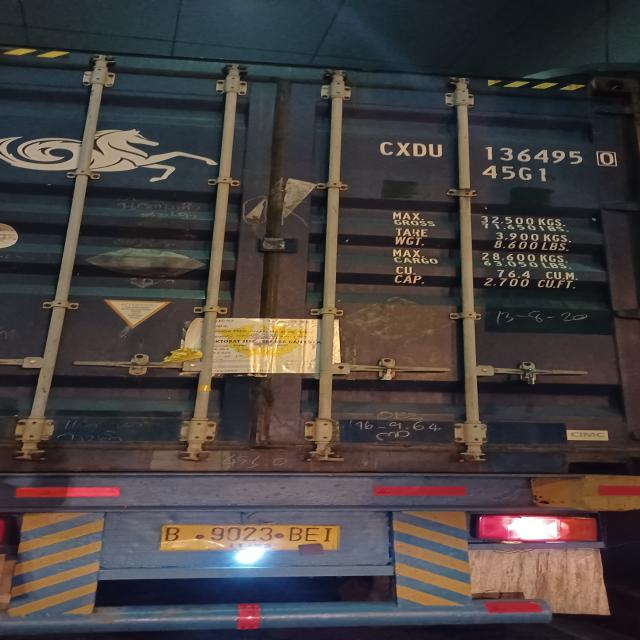seal: (378, 363, 400, 382), (520, 366, 539, 386)
